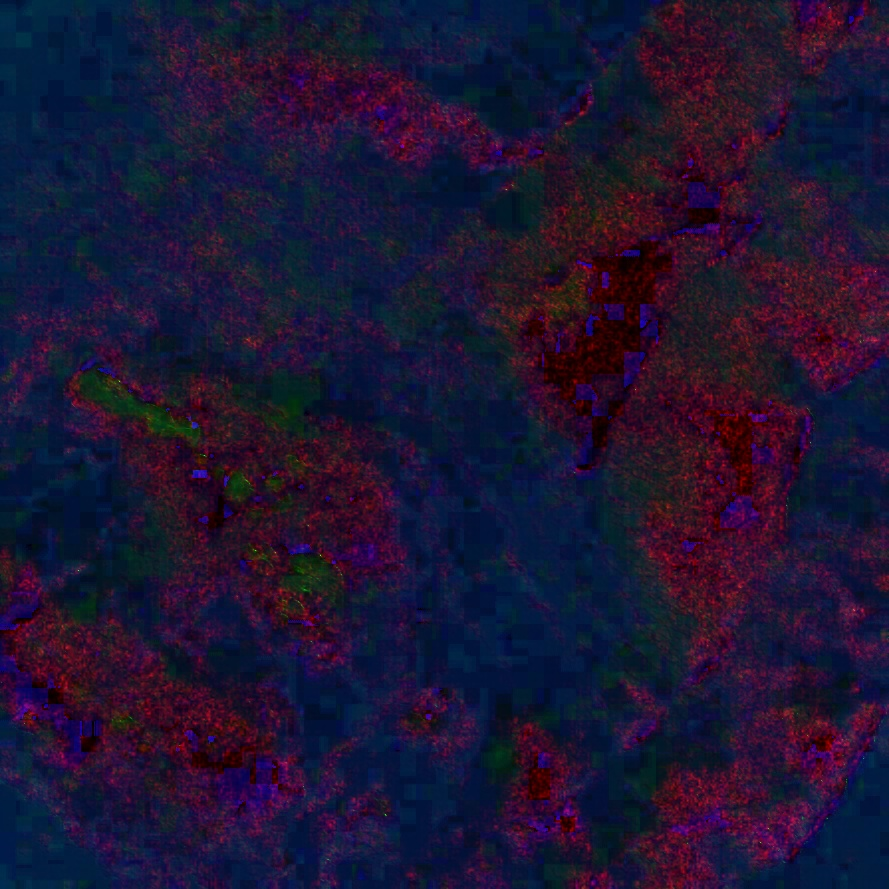rip_current: (221, 284, 748, 737)
